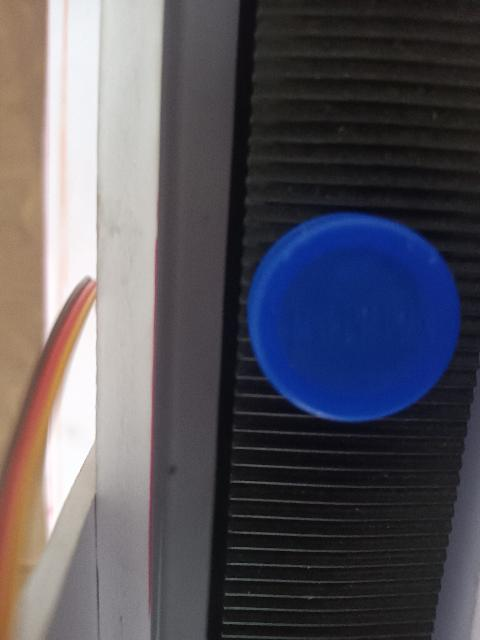bottlecap: (241, 212, 466, 428)
